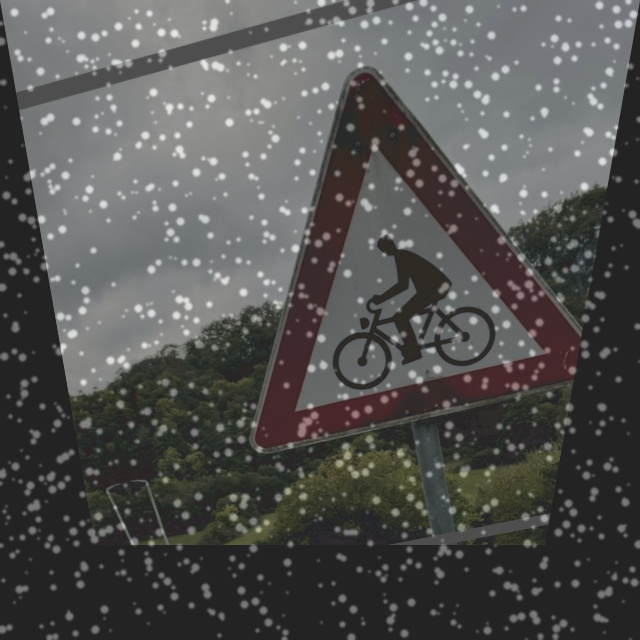Cycle_Crossing: (158, 4, 638, 454)
